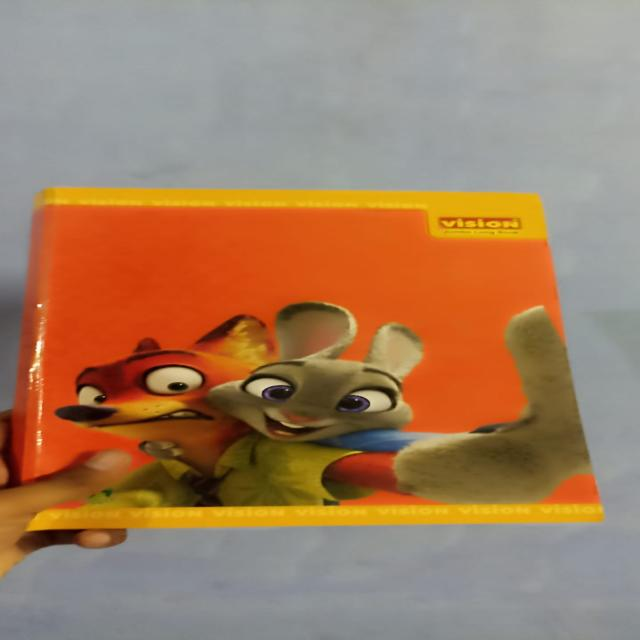book: (34, 181, 612, 533)
